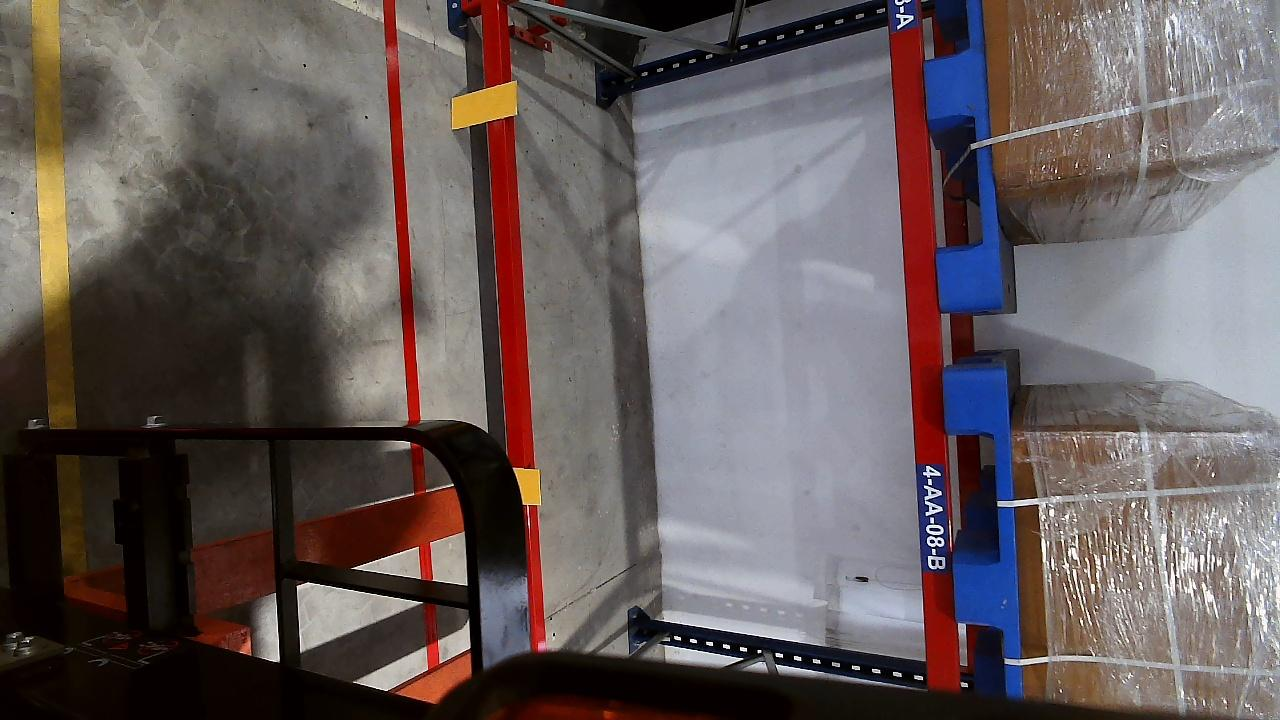h_rack: (899, 2, 955, 690), (477, 4, 533, 457)
orange_strip: (450, 82, 519, 129)
red_line: (380, 0, 421, 429)
small_pallet: (916, 0, 1007, 305), (944, 377, 1026, 691)
yellow_line: (31, 0, 73, 425)
